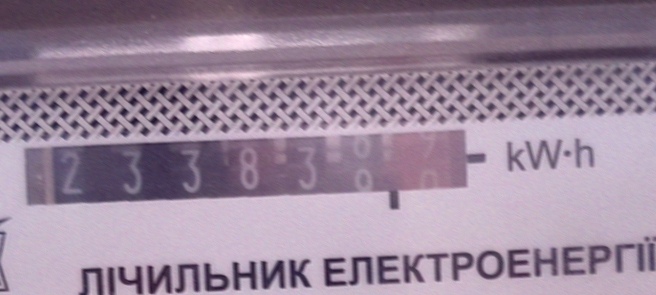0: (416, 165, 443, 191)
2: (56, 148, 86, 197)
3: (117, 147, 146, 197), (293, 142, 321, 192), (178, 146, 205, 197)
8: (235, 144, 262, 191), (348, 133, 376, 161)
9: (349, 164, 377, 194), (415, 130, 440, 159)
screen: (11, 116, 487, 229)
